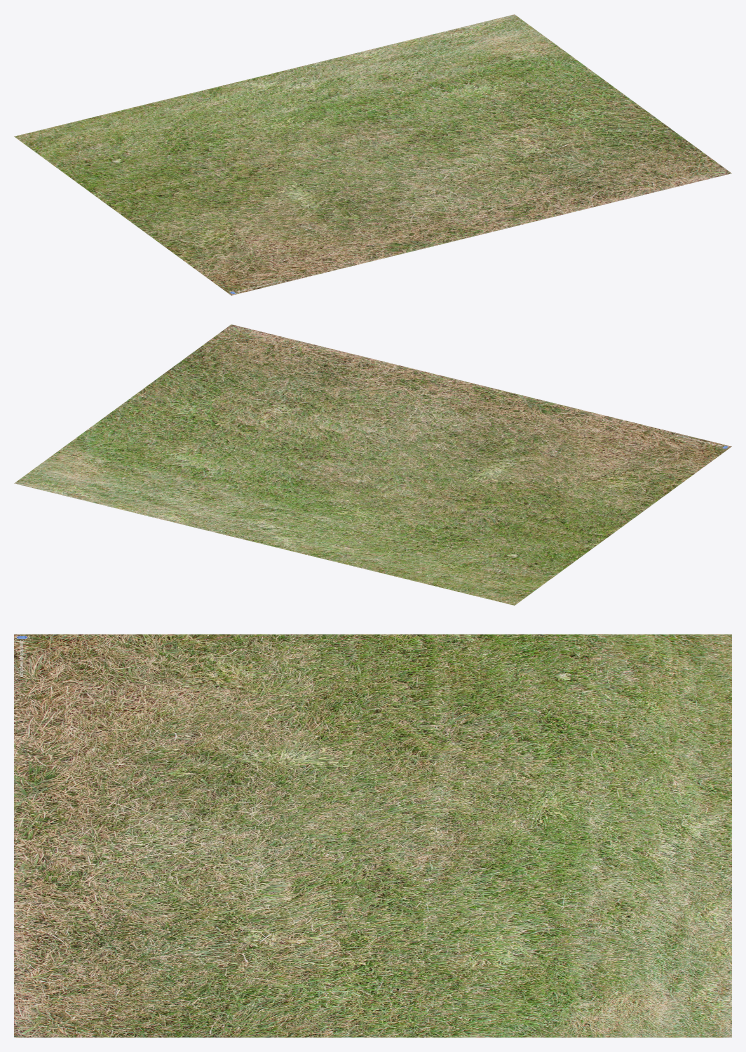
The model's file is GrassField.FBX.
3 renders of one model, top to bottom at view 1: azimuth 30°, elevation 25°; view 2: azimuth 150°, elevation 25°; view 3: azimuth 270°, elevation 25°, orthographic. The views are drawn at different scales.
Visible parts, largest first — view 1: Plane01; view 2: Plane01; view 3: Plane01.
Boxes of the visible parts, box(x1,y1,x2,y2) form: Plane01: box(14, 14, 731, 295); Plane01: box(14, 324, 731, 605); Plane01: box(14, 634, 731, 1037).
Size of the model in its own units: 266 by 5.67e-14 by 200.
1 material, 1 textured.
